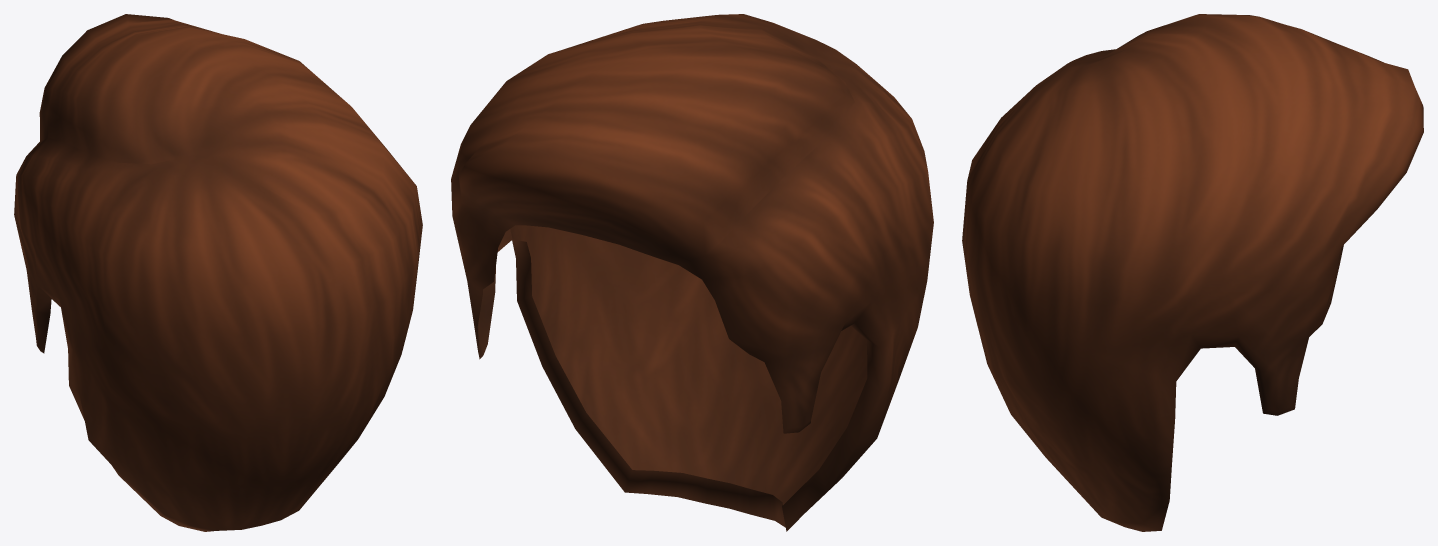
Rendered from Hair_Male_002_textured_brown.glb.
The picture shows the model from 3 angles, left to right: view 1: azimuth 30°, elevation 25°; view 2: azimuth 150°, elevation 25°; view 3: azimuth 270°, elevation 25°; orthographic projection. The views are drawn at different scales.
Visible parts, largest first — view 1: Hair_Male_002; view 2: Hair_Male_002; view 3: Hair_Male_002.
Part boxes in pixels (x1,y1,x2,y2): Hair_Male_002: (14, 14, 422, 531); Hair_Male_002: (451, 14, 933, 531); Hair_Male_002: (962, 14, 1423, 531).
Size of the model in its own units: 0.1882 by 0.2415 by 0.2192.
Materials: 1 (1 with a texture image).
